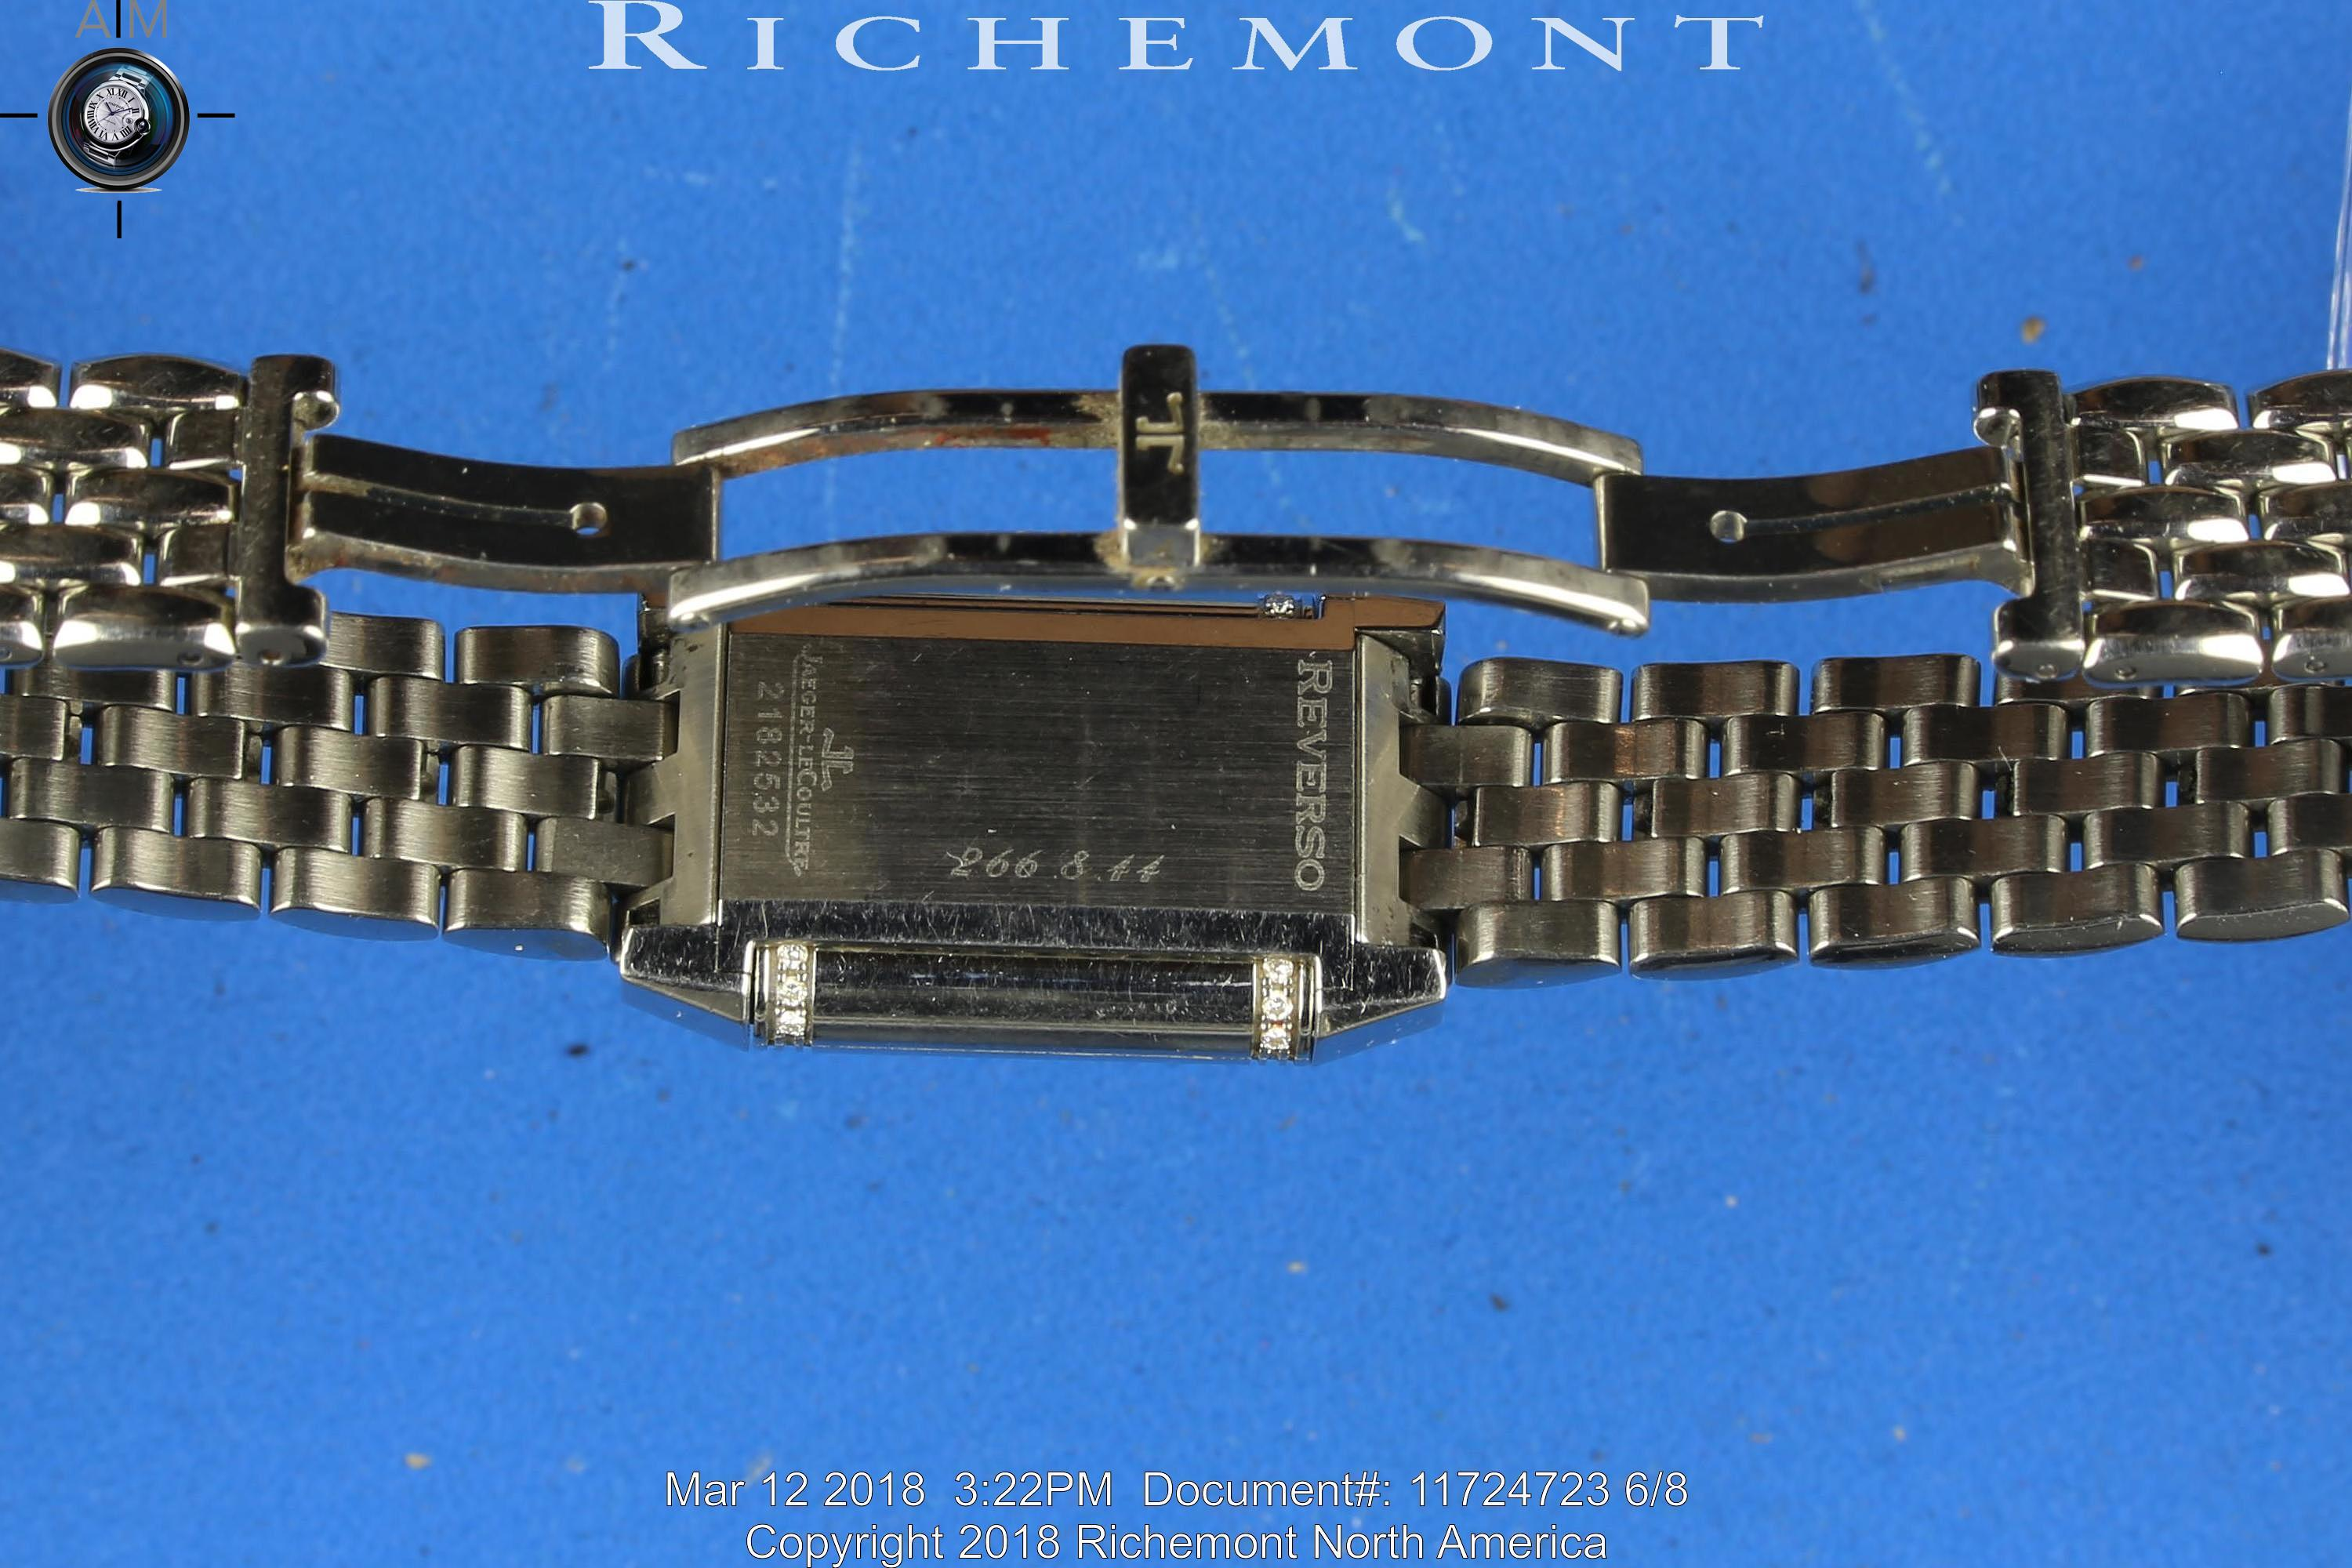Watch Back Case: (618, 595, 1456, 1062)
